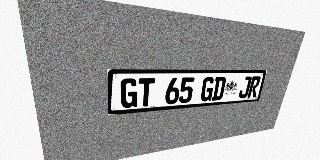5: (178, 77, 195, 103)
6: (164, 77, 181, 105)
D: (211, 77, 227, 101)
G: (120, 78, 138, 108), (200, 77, 215, 102)
J: (238, 76, 252, 98)
R: (247, 76, 261, 98)
T: (138, 78, 155, 107)
